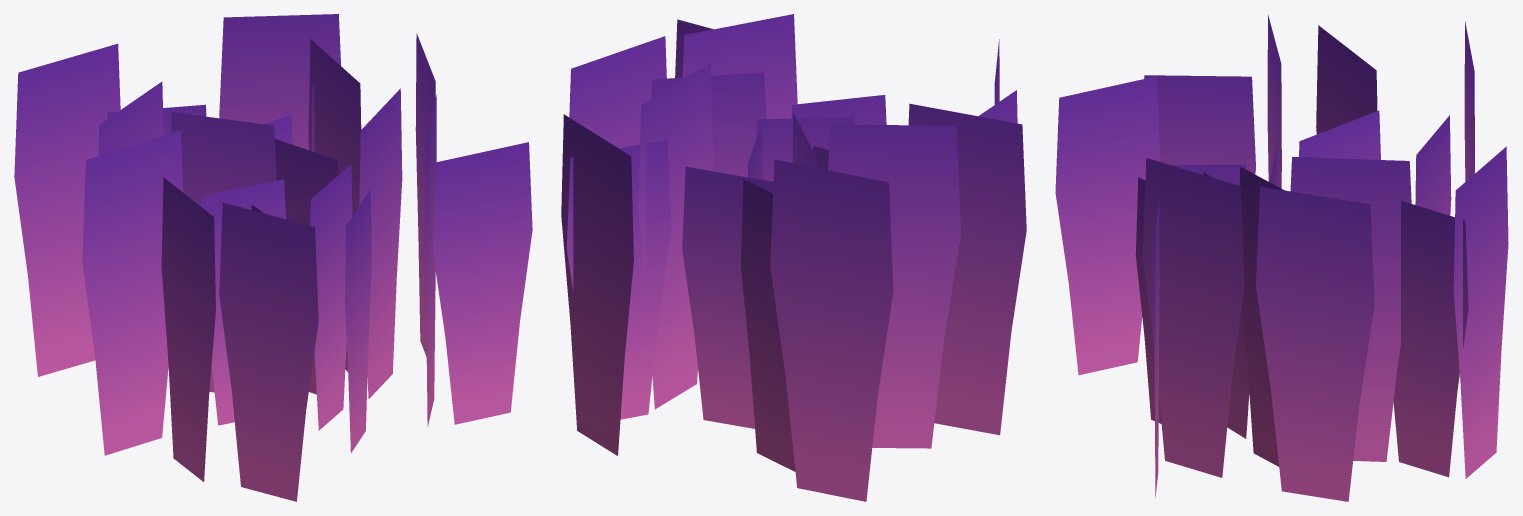
The model's file is anp_grass_2.fbx.
3 views of the same model, side by side, from view 1: azimuth 30°, elevation 25°; view 2: azimuth 150°, elevation 25°; view 3: azimuth 270°, elevation 25° (orthographic). The views are drawn at different scales.
Visible parts, largest first — view 1: grass2; view 2: grass2; view 3: grass2.
Boxes of the visible parts, bbox=[...] form: grass2: bbox=[14, 14, 532, 501]; grass2: bbox=[561, 14, 1026, 501]; grass2: bbox=[1055, 15, 1508, 501].
Size of the model in its own units: 54.09 by 40.68 by 53.44.
